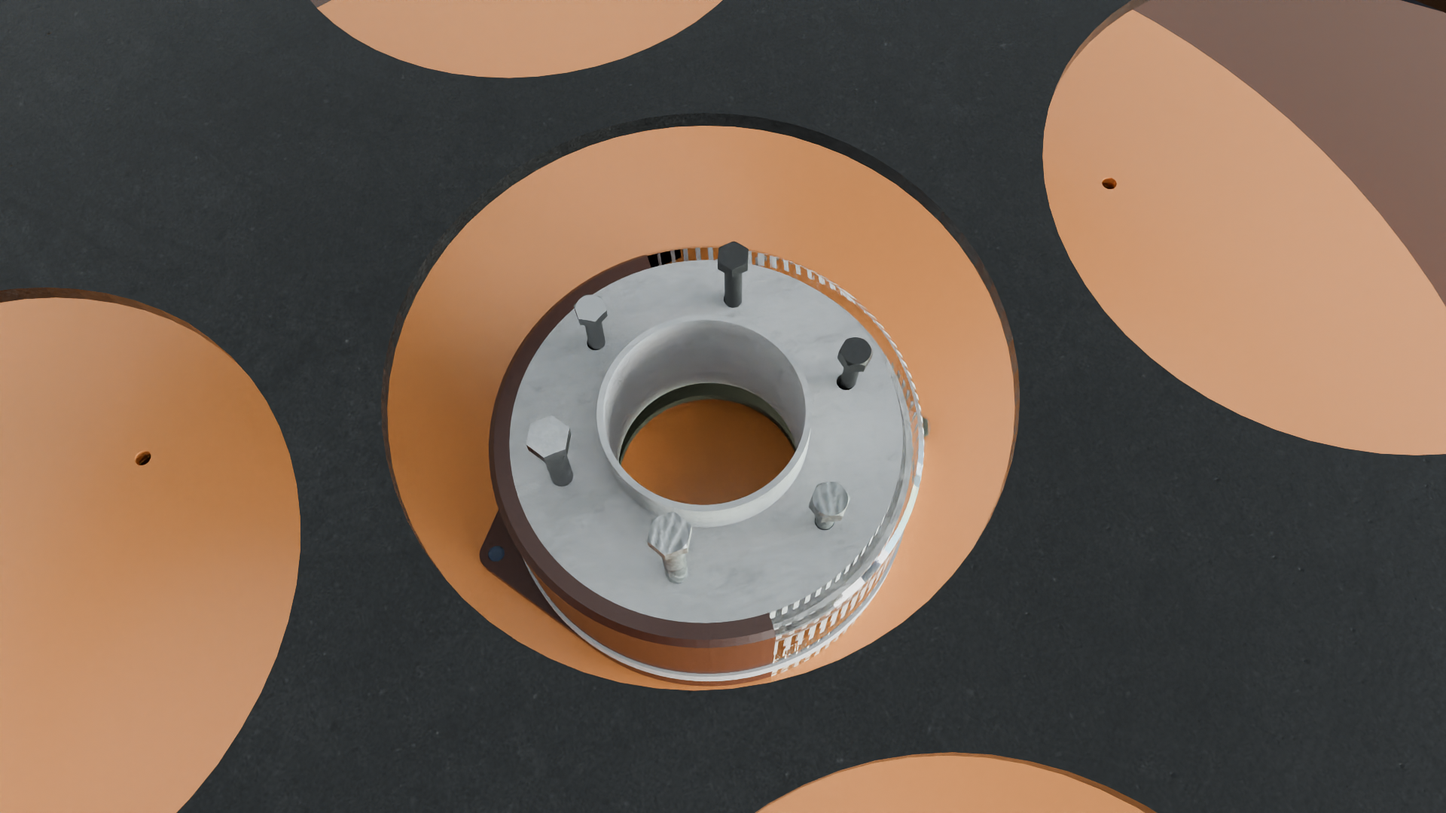bolt: (647, 511, 691, 556), (526, 416, 569, 458), (810, 482, 850, 518), (839, 337, 873, 366), (718, 241, 749, 271), (574, 294, 606, 321)
